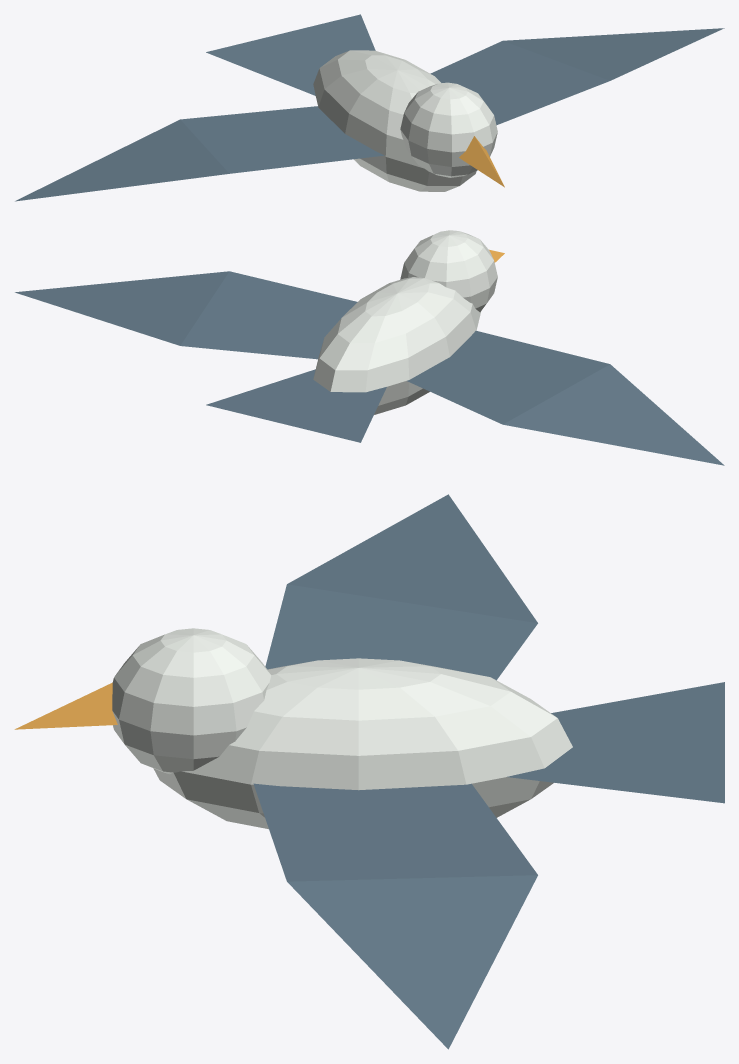
File: bird.glb
3 renders of one model, top to bottom at view 1: azimuth 30°, elevation 25°; view 2: azimuth 150°, elevation 25°; view 3: azimuth 270°, elevation 25°, orthographic. The views are drawn at different scales.
Visible parts, largest first — view 1: Bird feathers L, Bird feathers R, Bird body, Bird head, Bird tail, Bird beak; view 2: Bird feathers L, Bird feathers R, Bird body, Bird tail, Bird head; view 3: Bird feathers R, Bird body, Bird feathers L, Bird head, Bird tail, Bird beak.
Boxes of the visible parts, box(x1,y1,x2,y2) form: Bird feathers L: box(15, 106, 384, 201); Bird feathers R: box(430, 28, 724, 125); Bird body: box(313, 50, 476, 191); Bird head: box(400, 82, 497, 177); Bird tail: box(206, 14, 375, 95); Bird beak: box(459, 136, 504, 187); Bird feathers L: box(407, 330, 724, 465); Bird feathers R: box(15, 271, 357, 359); Bird body: box(313, 277, 481, 414); Bird tail: box(206, 369, 386, 442); Bird head: box(400, 230, 497, 311); Bird feathers R: box(253, 783, 537, 1049); Bird body: box(153, 658, 572, 829); Bird feathers L: box(265, 494, 537, 680); Bird head: box(112, 628, 271, 774); Bird tail: box(507, 682, 724, 803); Bird beak: box(14, 682, 117, 729).
Size of the model in its own units: 3.66 by 0.6 by 1.98.
